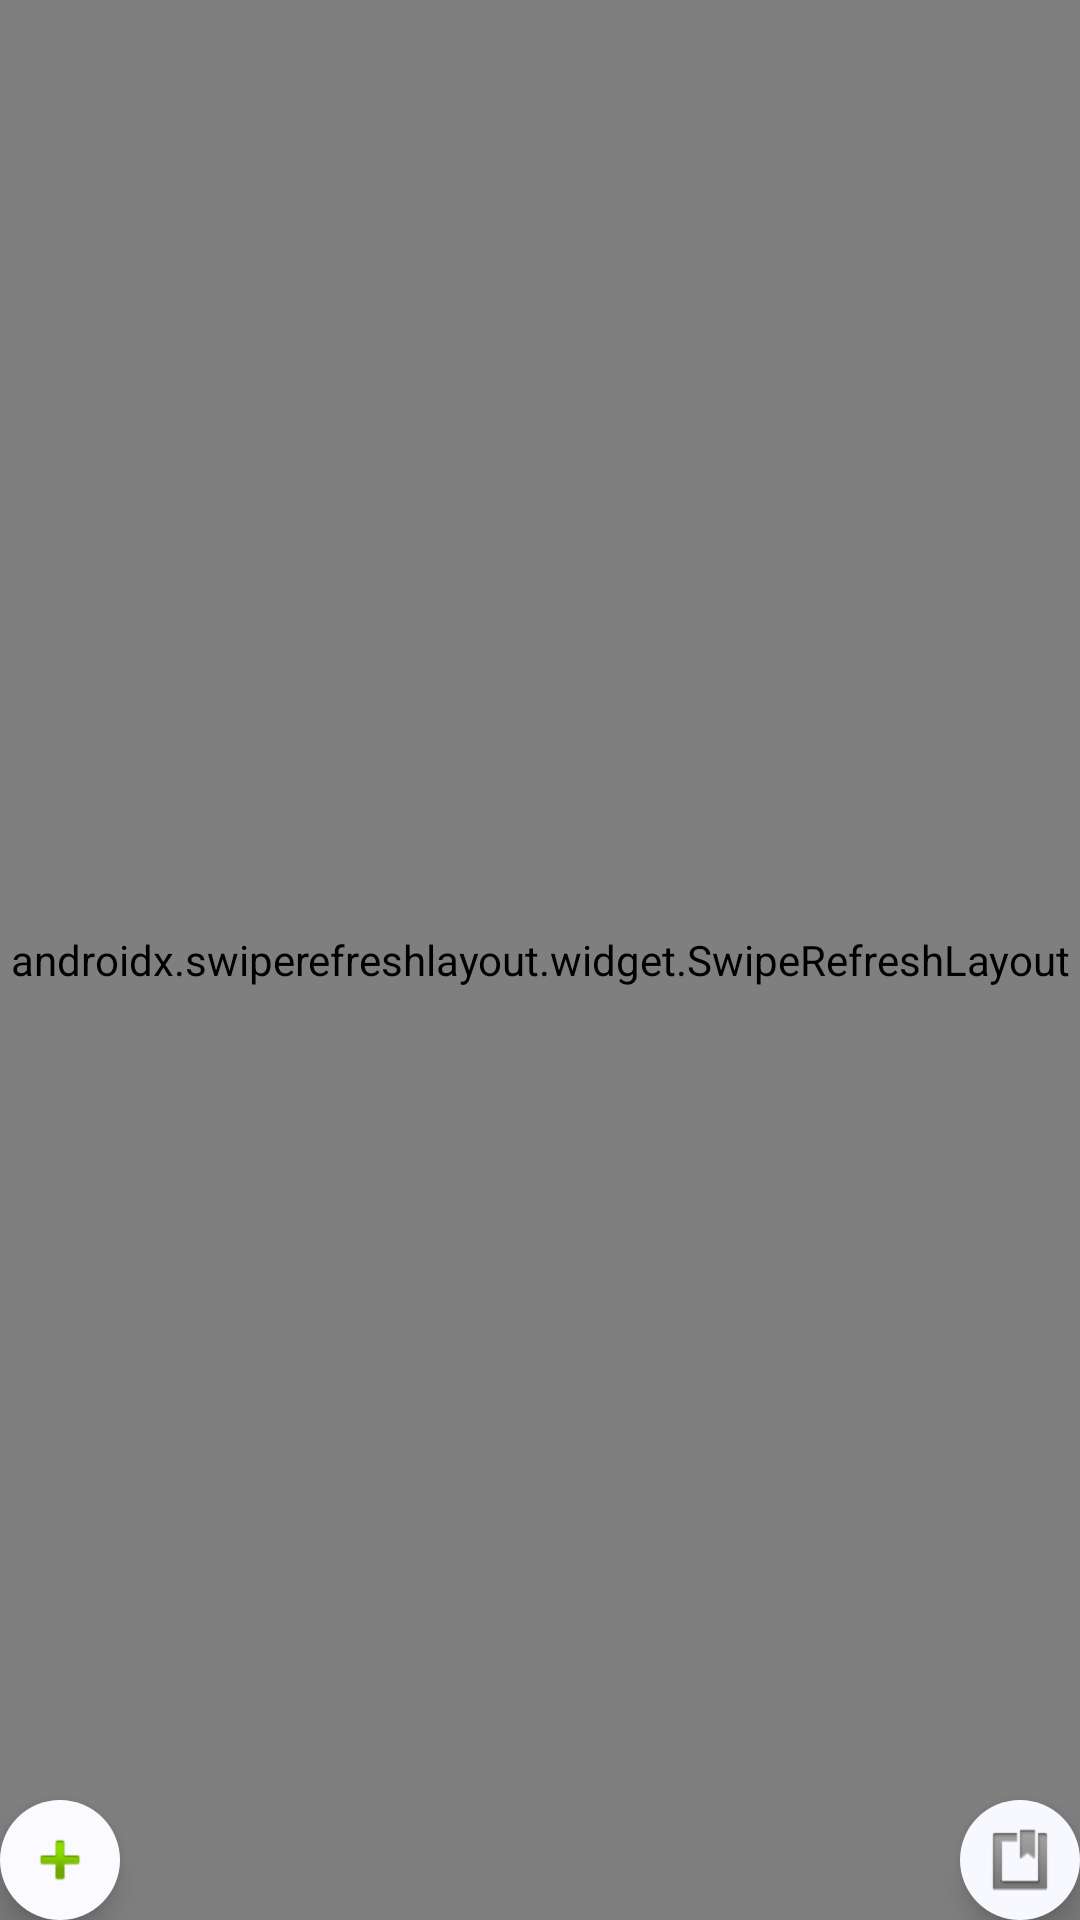

Point at icon controls on the screen. Image size 1080*1920, points as [x,y].
add: [60,1860]
